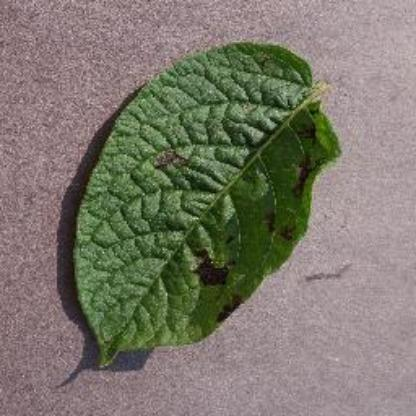Late-Blight: (40, 29, 370, 391)
